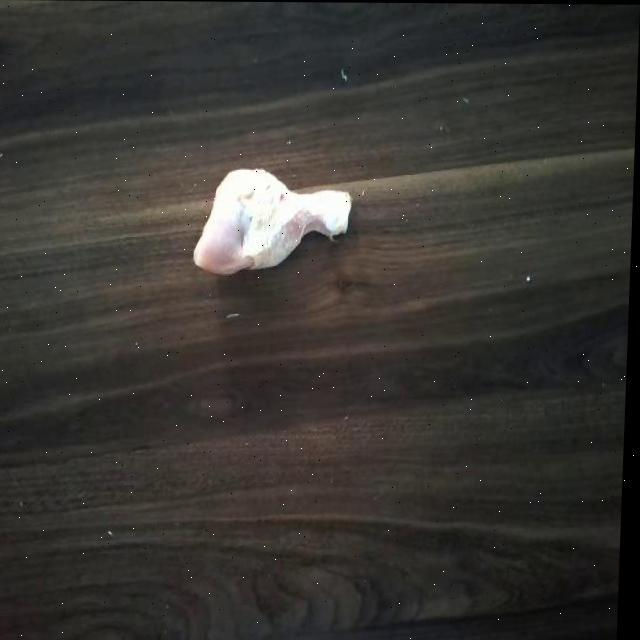leg: (185, 156, 355, 280)
